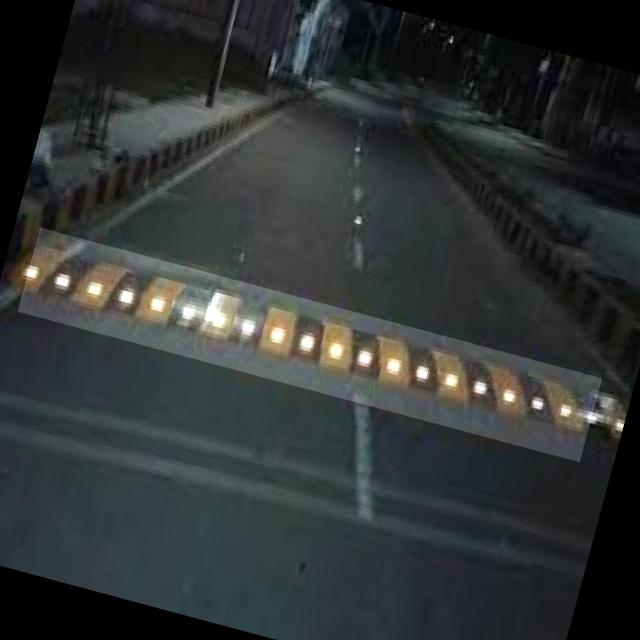bump: (17, 227, 602, 462)
